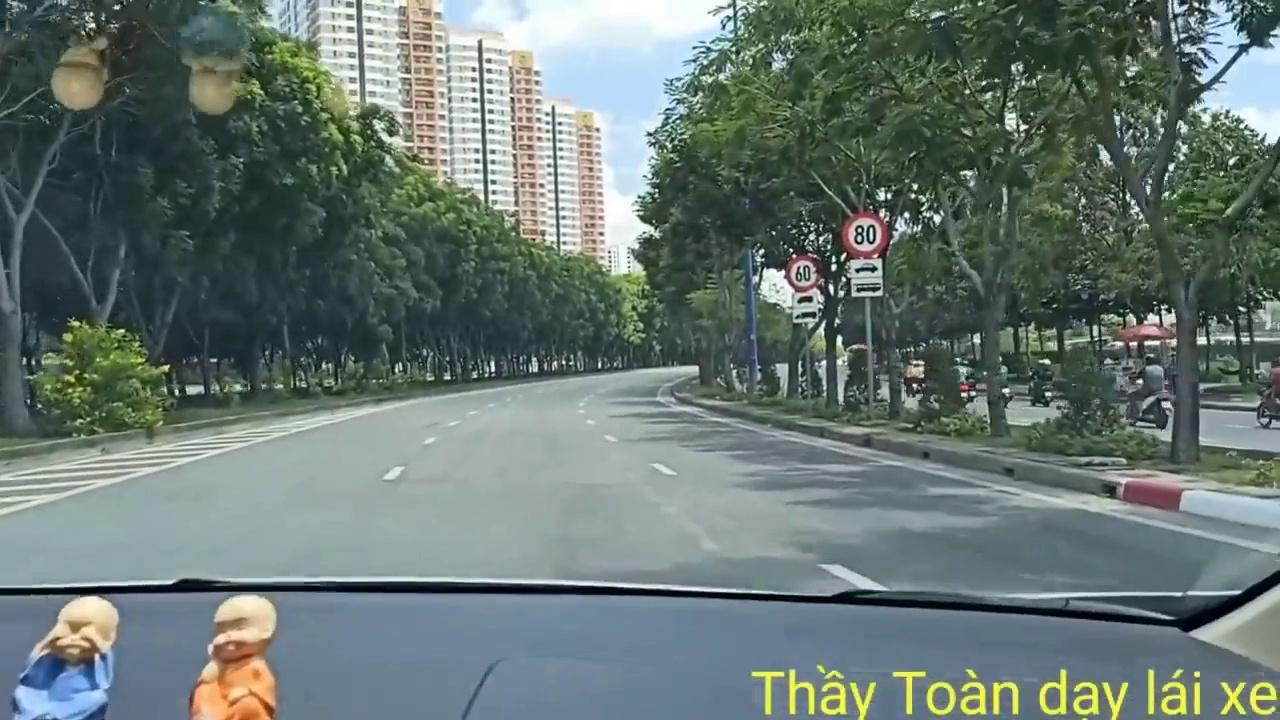Biển phụ: (850, 258, 884, 298), (790, 292, 820, 323)
GIơi hạn tốc độ 60Km/h: (784, 254, 823, 291)
Giới hạn tốc độ 80Km/h: (841, 210, 889, 258)
